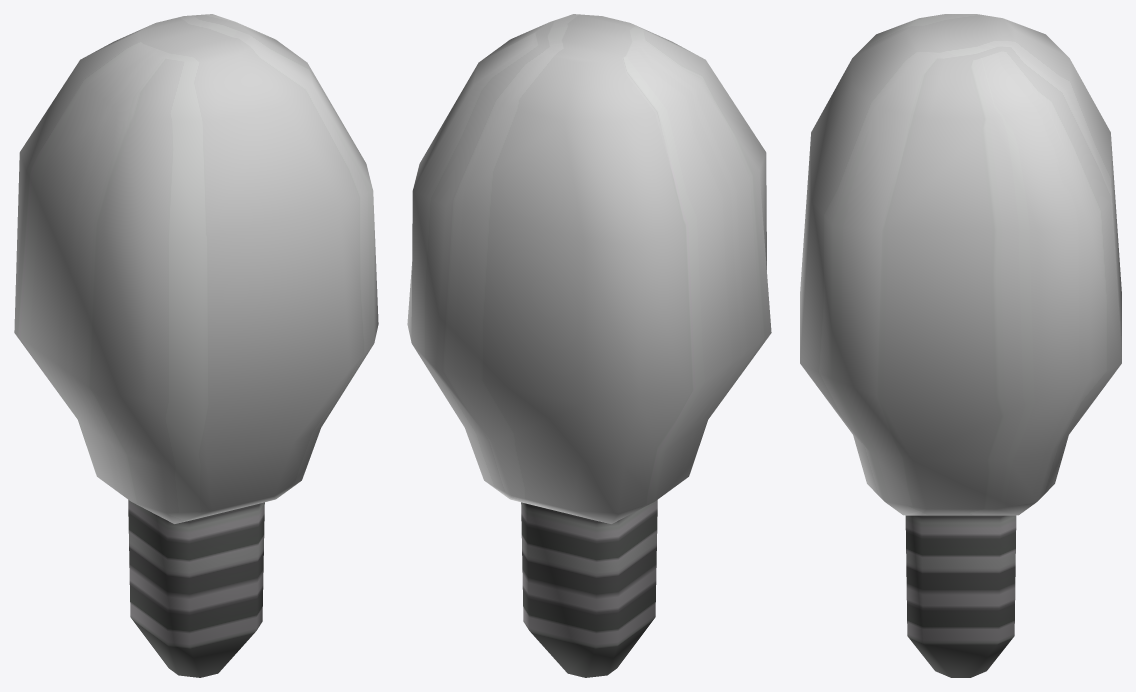
Rendered from LightBulb_Relic.fbx.
The picture shows the model from 3 angles, left to right: view 1: azimuth 30°, elevation 25°; view 2: azimuth 150°, elevation 25°; view 3: azimuth 270°, elevation 25°; orthographic projection.
Visible parts, largest first — view 1: Relic_Phone; view 2: Relic_Phone; view 3: Relic_Phone.
Part boxes in pixels (x1=…): Relic_Phone: x1=14, y1=14, x2=378, y2=677; Relic_Phone: x1=407, y1=14, x2=771, y2=677; Relic_Phone: x1=800, y1=14, x2=1121, y2=677.
Size of the model in its own units: 0.4336 by 0.9229 by 0.4267.
